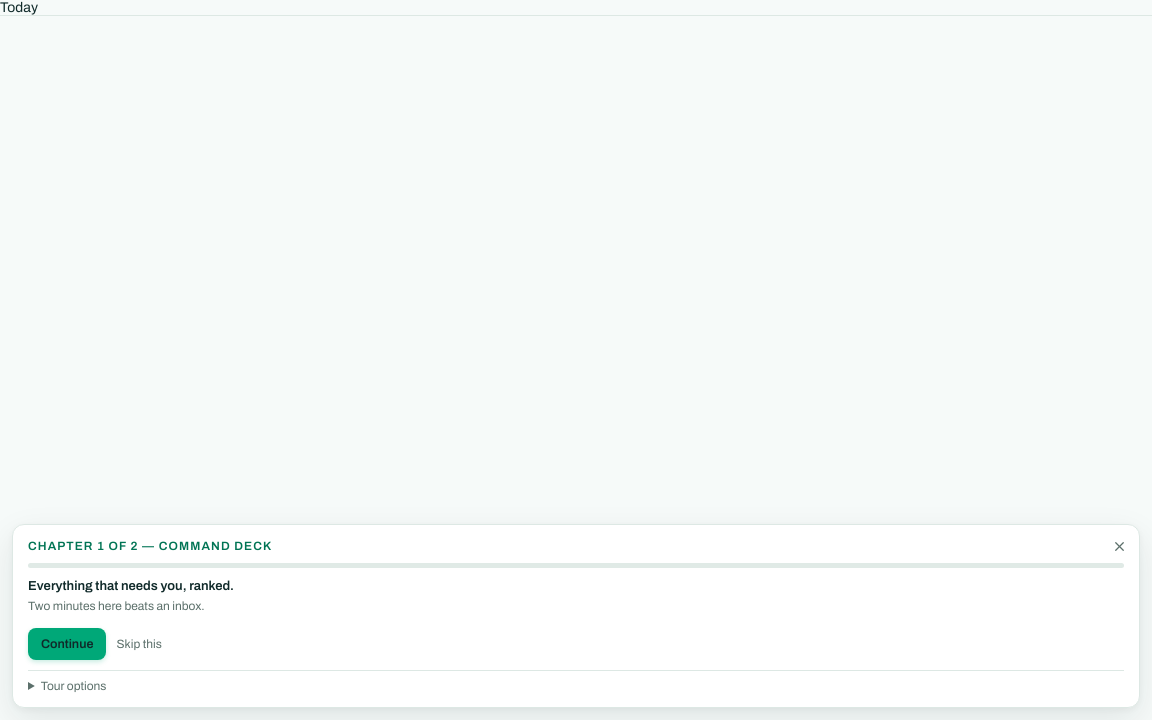
Test: small screens › becomes a bottom sheet, drops the spotlight, and says which chapter it skipped
Click the button "Continue" at [67, 644], box [28,628,106,660]
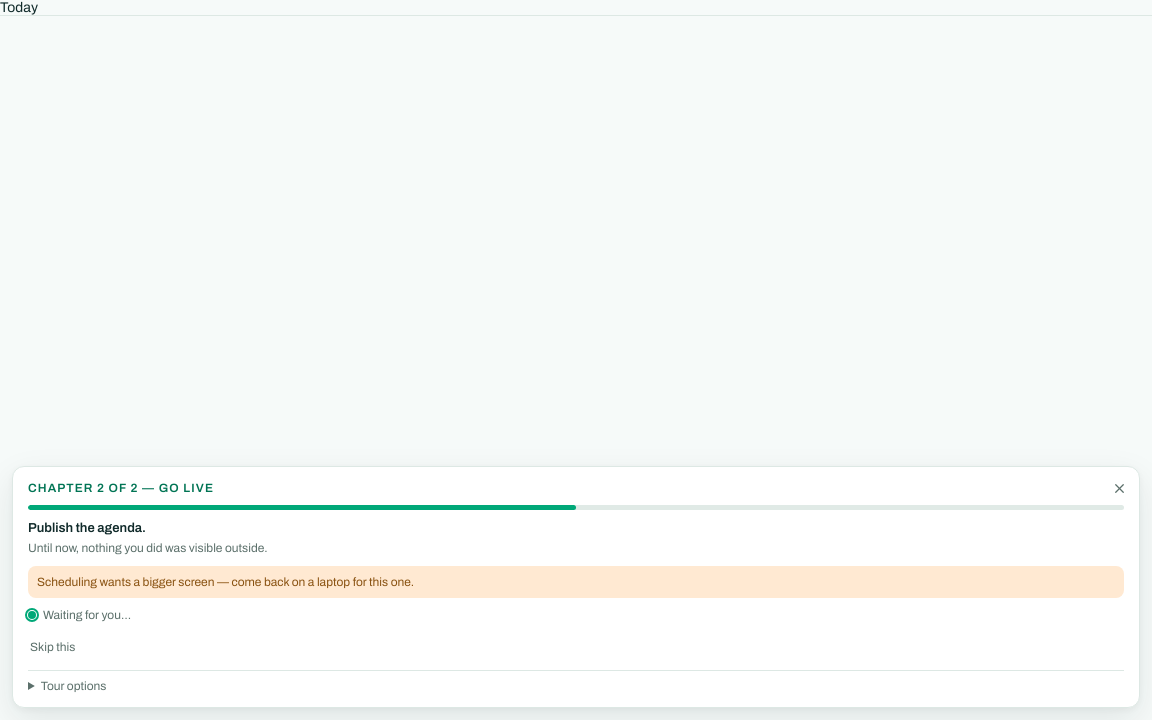
Now the dialog with class "tour-coach" shows "bigger screen", box [37,575,414,589]
